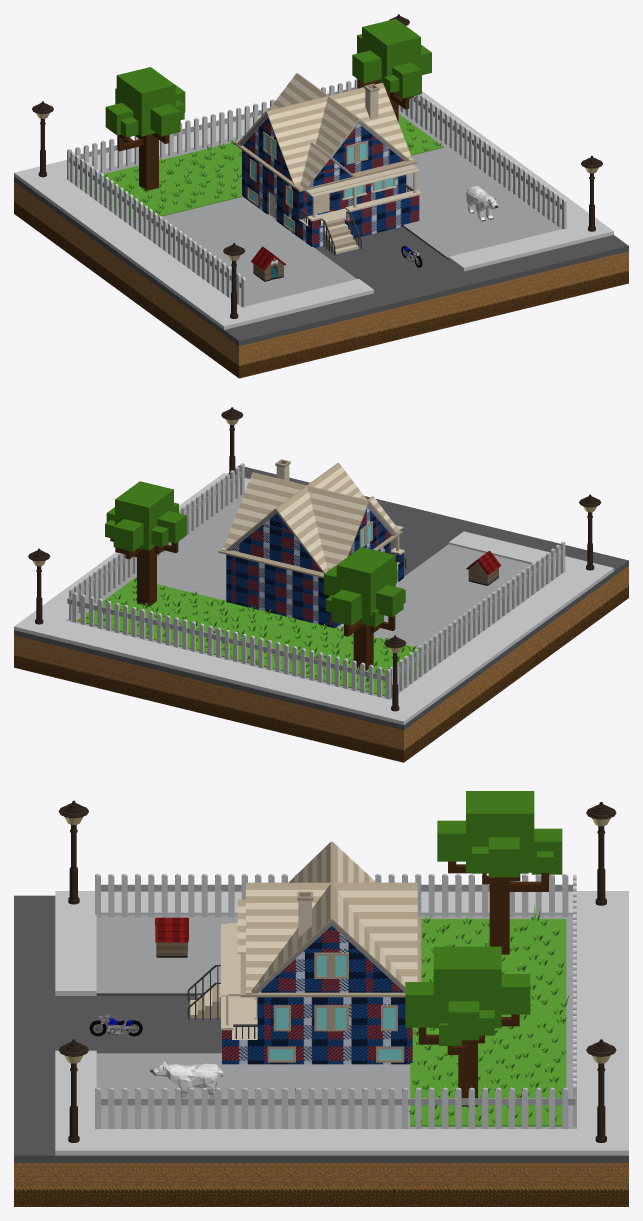
The picture shows the model from 3 angles, top to bottom: view 1: azimuth 30°, elevation 25°; view 2: azimuth 150°, elevation 25°; view 3: azimuth 270°, elevation 25°; orthographic projection. The views are drawn at different scales.
Visible parts, largest first — view 1: Cube.004, Cube.171, OBJRANDOM_DOGHOUSE, ANIMAL_OSO_POLAR; view 2: Cube.004, Cube.171, OBJRANDOM_DOGHOUSE; view 3: Cube.004, Cube.171, ANIMAL_OSO_POLAR, OBJRANDOM_DOGHOUSE, VEHICLES_CHOPPER.
Part boxes in pixels (x1=…): Cube.004: x1=14, y1=14, x2=628, y2=378; Cube.171: x1=233, y1=73, x2=422, y2=255; OBJRANDOM_DOGHOUSE: x1=251, y1=246, x2=285, y2=281; ANIMAL_OSO_POLAR: x1=466, y1=185, x2=498, y2=221; Cube.004: x1=14, y1=407, x2=628, y2=762; Cube.171: x1=218, y1=459, x2=406, y2=627; OBJRANDOM_DOGHOUSE: x1=466, y1=550, x2=501, y2=585; Cube.004: x1=14, y1=791, x2=628, y2=1206; Cube.171: x1=187, y1=841, x2=421, y2=1064; ANIMAL_OSO_POLAR: x1=150, y1=1061, x2=223, y2=1098; OBJRANDOM_DOGHOUSE: x1=155, y1=917, x2=188, y2=957; VEHICLES_CHOPPER: x1=89, y1=1014, x2=142, y2=1036.
Bounding box in the file's own units: 4000 × 1604 × 4000.
32 materials, 4 textured.
